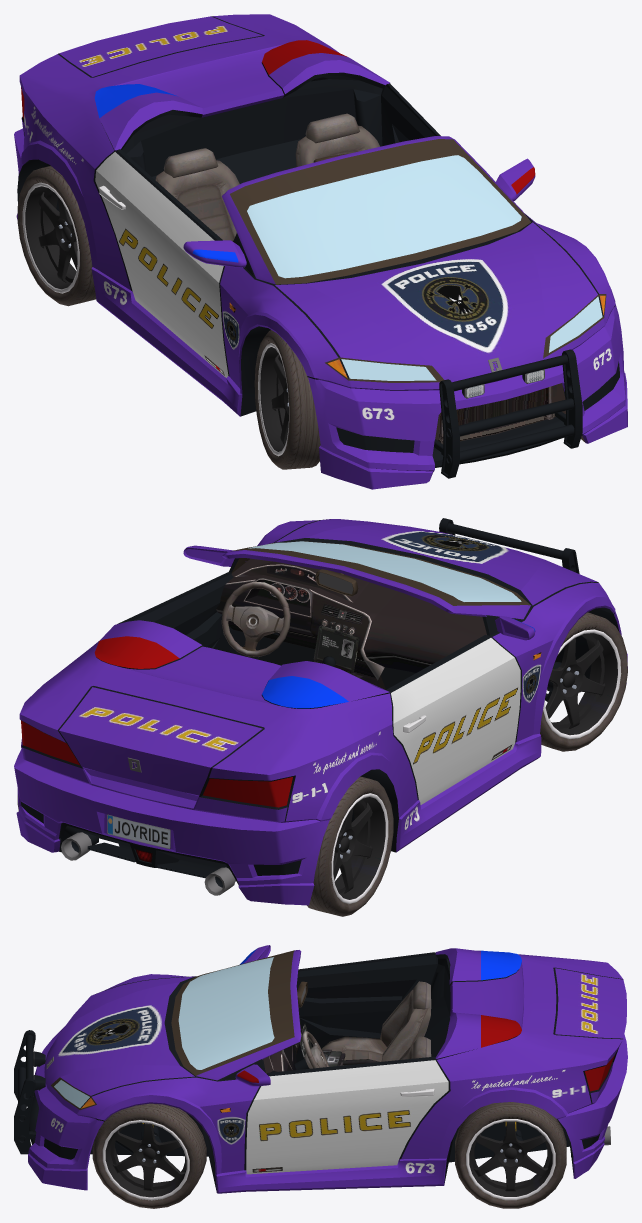
Rendered from zisejingche.fbx.
3 views of the same model, one above another, from view 1: azimuth 30°, elevation 25°; view 2: azimuth 150°, elevation 25°; view 3: azimuth 270°, elevation 25° (orthographic). The views are drawn at different scales.
Parts seen in each view (by area): view 1: root1; view 2: root1; view 3: root1.
Part boxes in pixels (bbox=[...]): root1: bbox=[14, 14, 627, 489]; root1: bbox=[14, 518, 627, 916]; root1: bbox=[14, 945, 627, 1208].
Bounding box in the file's own units: 51.56 × 29.69 × 99.4.
Materials: 82 (82 with a texture image).
